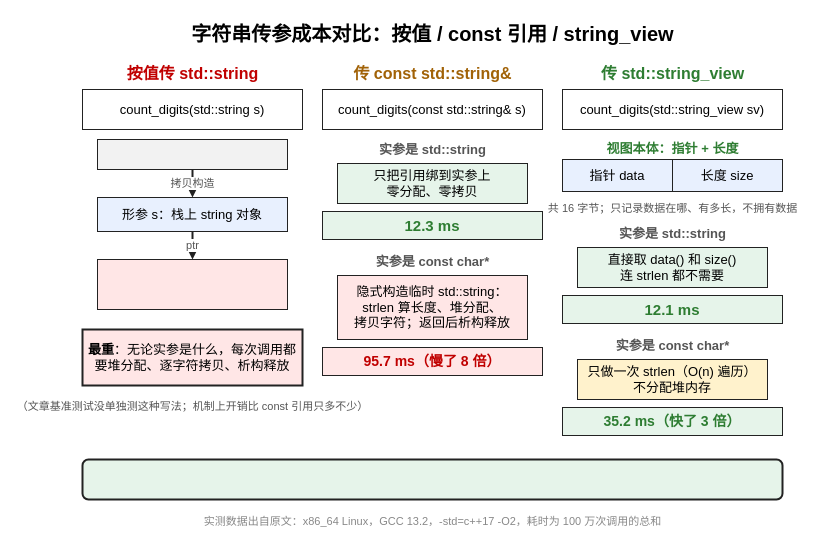
Some shapes in this 814 by 548 pixel diagram are drawn without their labels. Here are the shapes that lost their labels. From the top down, the centre of each, then its label:
At (192,154): "调用方的字符串（实参）".
At (192,284): "堆上新分配的缓冲区 内容逐字符复制一份".
At (432,479): "结论 ：实参全是 std::string 时两种写法基本持平；只要可能传 const char* 或字面量，参数就该用 string_view".
